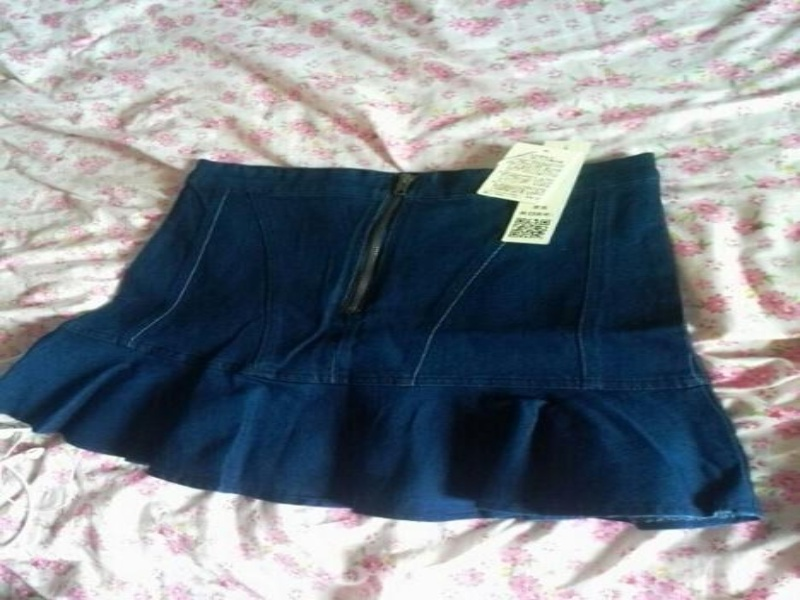skirt: (2, 149, 768, 538)
